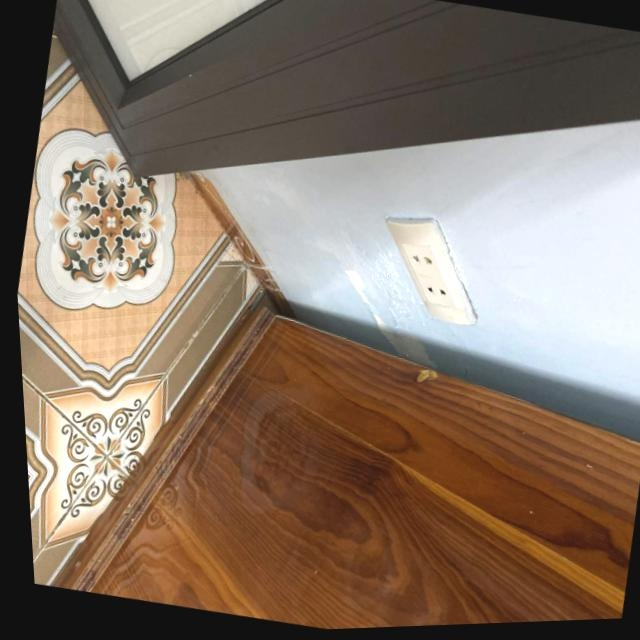outlet: (367, 207, 496, 331)
